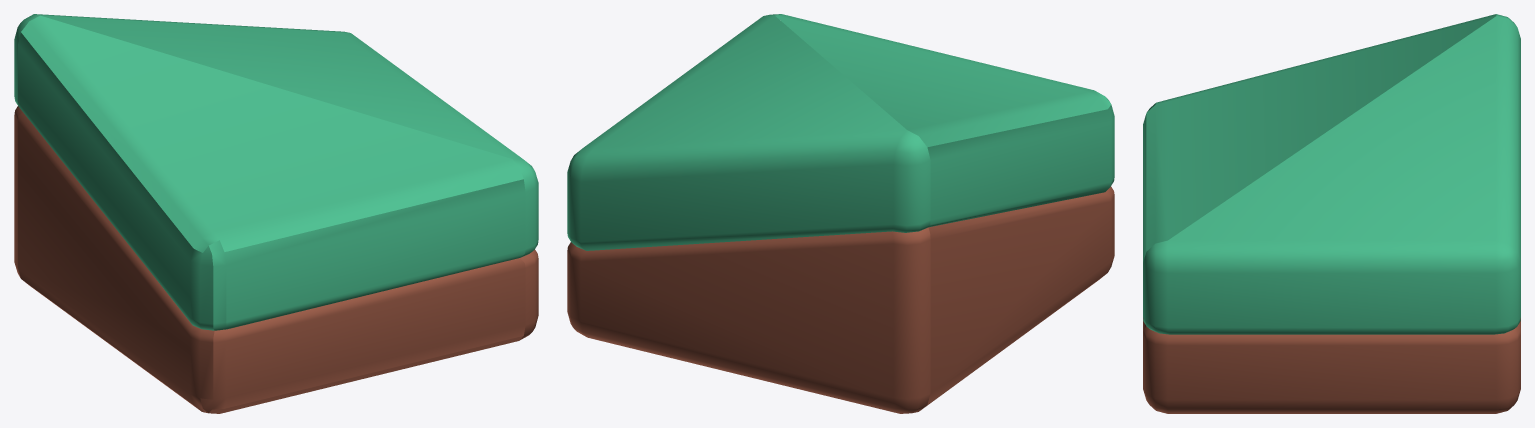
Rendered from tileSlopeLowMedium_forest_001.glb.
The picture shows the model from 3 angles, left to right: view 1: azimuth 30°, elevation 25°; view 2: azimuth 150°, elevation 25°; view 3: azimuth 270°, elevation 25°; orthographic projection. The views are drawn at different scales.
Parts seen in each view (by area): view 1: tileSlopeLowMedium_forest.001; view 2: tileSlopeLowMedium_forest.001; view 3: tileSlopeLowMedium_forest.001.
Part boxes in pixels (x1,y1,x2,y2): tileSlopeLowMedium_forest.001: (14, 14, 538, 413); tileSlopeLowMedium_forest.001: (567, 14, 1114, 413); tileSlopeLowMedium_forest.001: (1143, 14, 1520, 413).
Size of the model in its own units: 2 by 1.5 by 2.
